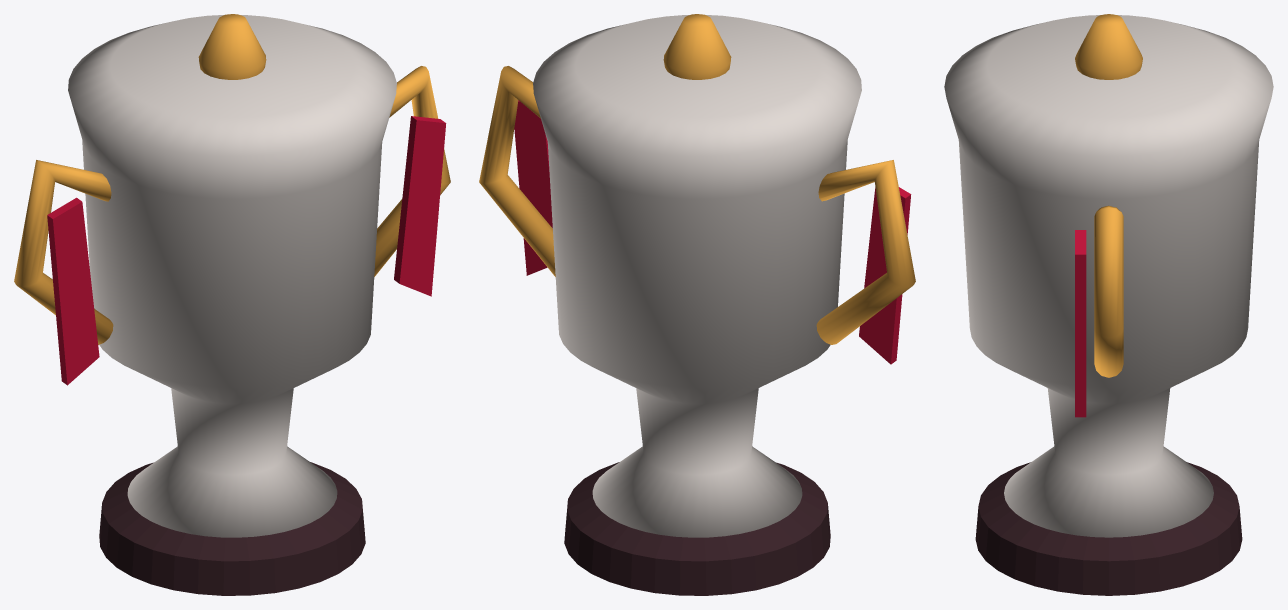
File: gunners-cup-league.glb
3 renders of one model, left to right at view 1: azimuth 30°, elevation 25°; view 2: azimuth 150°, elevation 25°; view 3: azimuth 270°, elevation 25°, orthographic.
Visible parts, largest first — view 1: gunners-cup-league · Chased silver, gunners-cup-league · Ebonized wood, gunners-cup-league · Crimson enamel, gunners-cup-league · Gilt; view 2: gunners-cup-league · Chased silver, gunners-cup-league · Ebonized wood, gunners-cup-league · Gilt, gunners-cup-league · Crimson enamel; view 3: gunners-cup-league · Chased silver, gunners-cup-league · Ebonized wood, gunners-cup-league · Gilt, gunners-cup-league · Crimson enamel.
Part boxes in pixels (x1,y1,x2,y2): gunners-cup-league · Chased silver: (68,15,396,537); gunners-cup-league · Ebonized wood: (99,462,365,595); gunners-cup-league · Crimson enamel: (47,116,446,385); gunners-cup-league · Gilt: (14,14,450,344); gunners-cup-league · Chased silver: (533,15,861,537); gunners-cup-league · Ebonized wood: (564,462,830,595); gunners-cup-league · Gilt: (479,14,915,344); gunners-cup-league · Crimson enamel: (514,100,911,364); gunners-cup-league · Chased silver: (944,15,1273,537); gunners-cup-league · Ebonized wood: (975,462,1242,595); gunners-cup-league · Gilt: (1075,14,1142,377); gunners-cup-league · Crimson enamel: (1075,230,1086,417).
Bounding box in the file's own units: 1.76 × 2.02 × 1.16.
